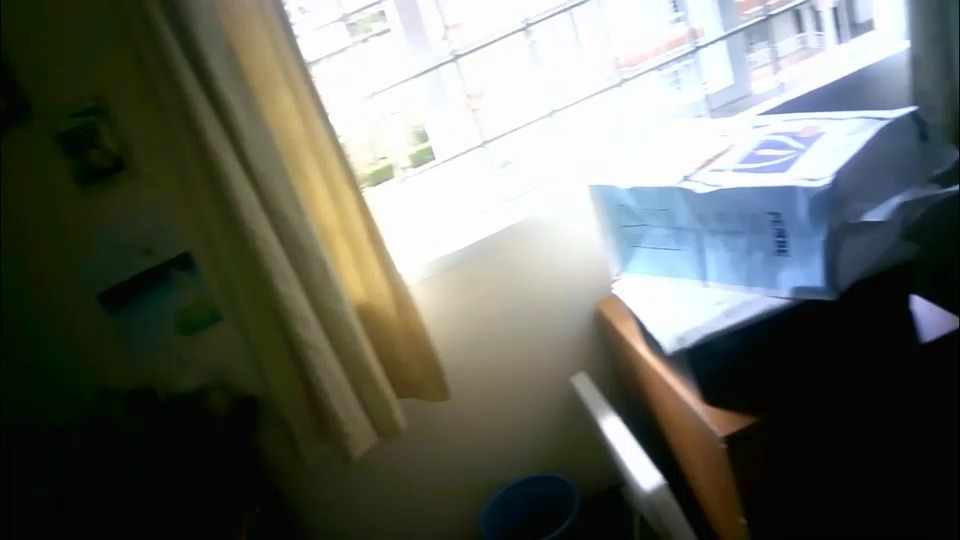wheat_flour_blue_label: (587, 109, 925, 299)
